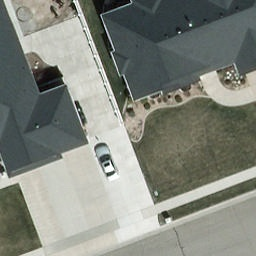car: (90, 140, 121, 180)
